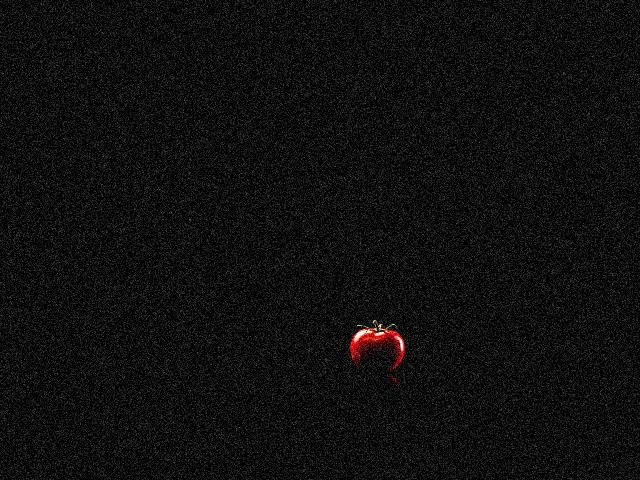tomato: (349, 327, 404, 371)
